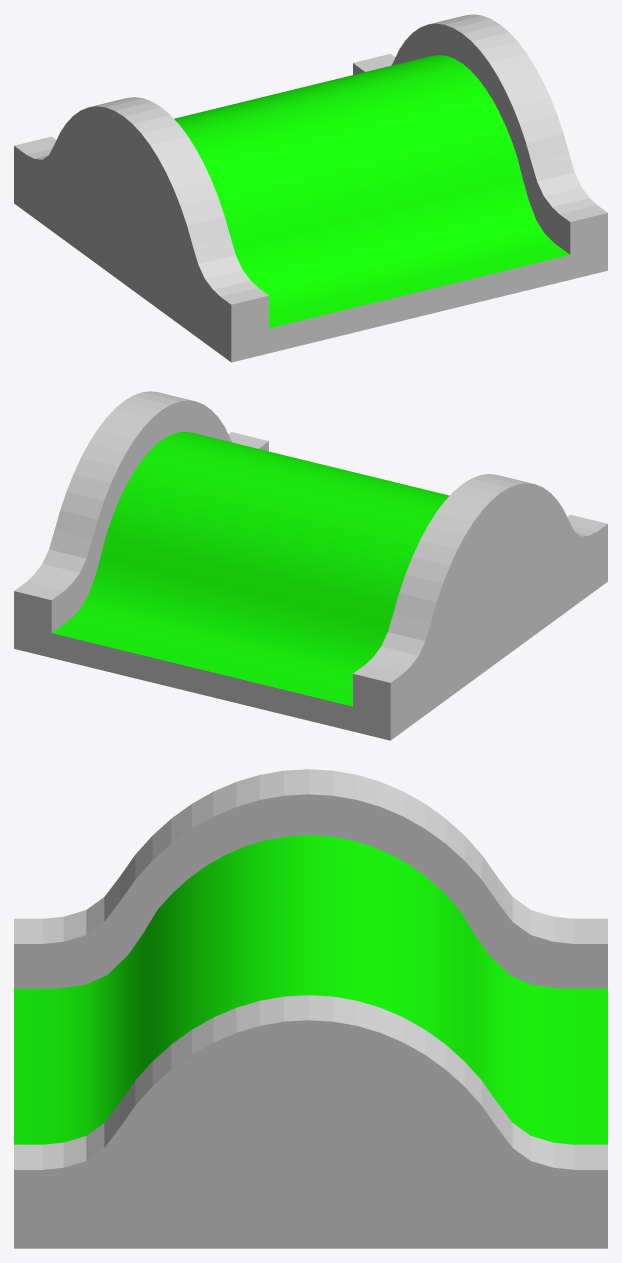
Rendered from slope.obj.
3 views of the same model, one above another, from view 1: azimuth 30°, elevation 25°; view 2: azimuth 150°, elevation 25°; view 3: azimuth 270°, elevation 25° (orthographic). The views are drawn at different scales.
Parts seen in each view (by area): view 1: slope4:slope5 slope5, slope4:modelPanel3ViewSelectedSet slope4:slope5 slope5; view 2: slope4:slope5 slope5, slope4:modelPanel3ViewSelectedSet slope4:slope5 slope5; view 3: slope4:slope5 slope5, slope4:modelPanel3ViewSelectedSet slope4:slope5 slope5.
Part boxes in pixels (x1,y1,x2,y2): slope4:slope5 slope5: [14, 55, 570, 361]; slope4:modelPanel3ViewSelectedSet slope4:slope5 slope5: [14, 14, 607, 362]; slope4:slope5 slope5: [51, 431, 607, 740]; slope4:modelPanel3ViewSelectedSet slope4:slope5 slope5: [14, 391, 607, 740]; slope4:slope5 slope5: [14, 835, 607, 1248]; slope4:modelPanel3ViewSelectedSet slope4:slope5 slope5: [14, 769, 607, 1169].
Size of the model in its own units: 3 by 1.27 by 3.
